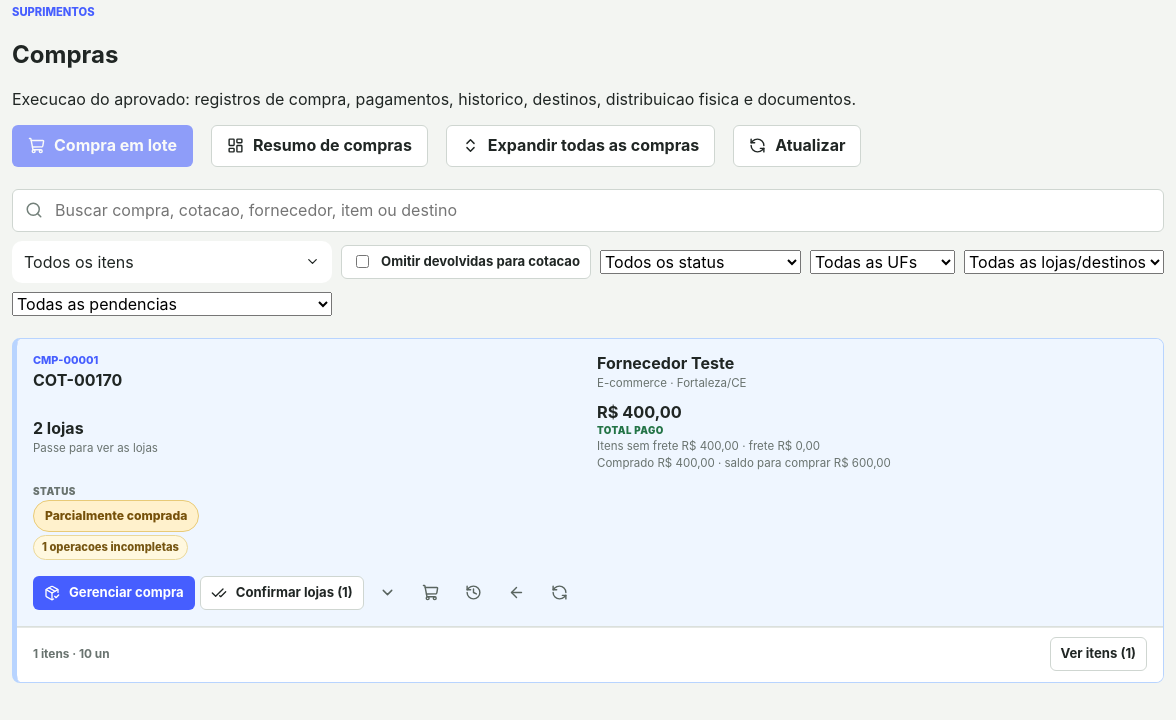
Test case: SupplyPurchasesPage V2 › filtra por pendencia de distribuicao fisica
This screenshot has width=1176, height=720.
Check: the text "CMP-00001" is shown, box [33, 353, 98, 367]
Select "Distribuicao realizada pendente" in the dropdown named "Pendencia operacional" at (172, 304), box [12, 292, 332, 316]
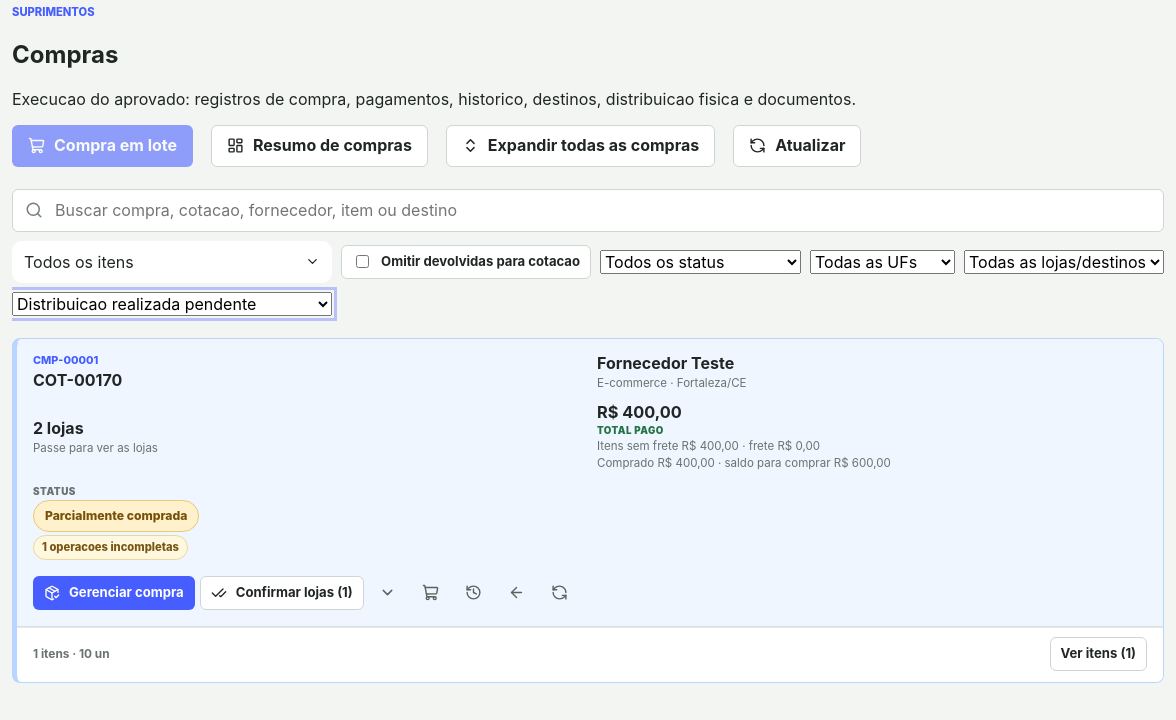
Check: the text "CMP-00001" is shown, box [33, 353, 98, 367]
Select "Distribuicao mestre pendente" in the dropdown named "Pendencia operacional" at (172, 304), box [12, 292, 332, 316]
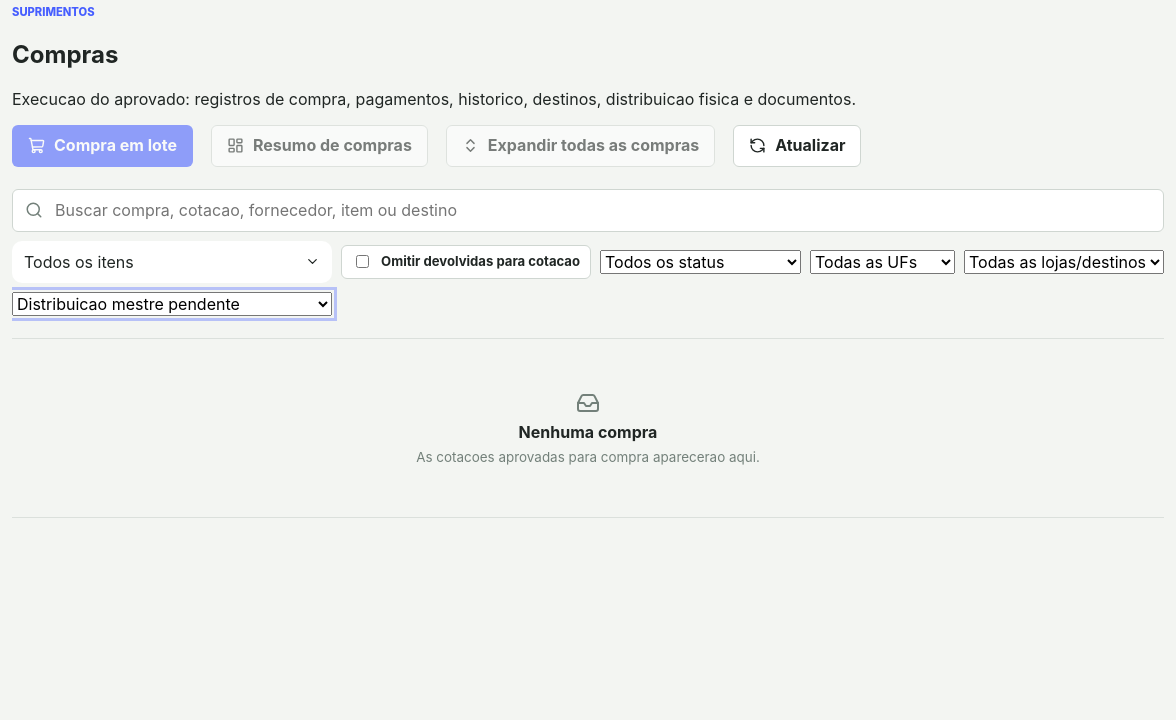
Check: the text "CMP-00001" is gone
